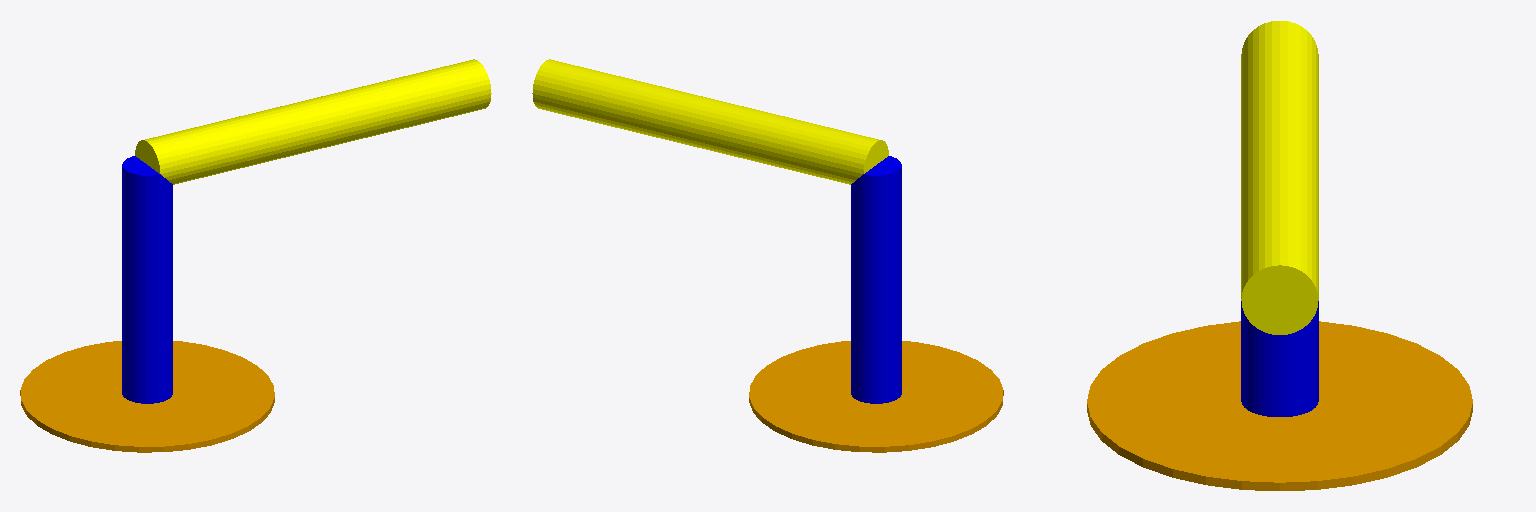
The robot description file, URDF, robot "TR":
<robot name="TR">
	<link name="base_link">

		<visual>
			<geometry>
				<cylinder length="0.01" radius="0.2"/>
			</geometry>
			<origin rpy="0 0 0" xyz="0 0 0"/>
		</visual>
	</link>

	<joint name="joint1" type="revolute">
		<parent link="base_link" />
		<child link="link1"/>
		<origin xyz="0 0 0"/>
		<axis xyz="0 0 1"/>
		<limit effort="300" velocity="0.1" lower="-3.1415926" upper="3.1415926"/>
		<dynamics damping="50" friction="1"/>
	</joint>

	<link name="link1">

		<visual>
			<geometry>
				<cylinder length="0.4" radius="0.04"/>
			</geometry>
			<origin rpy="0 0 0" xyz="0 0 0.2"/>
			<material name="blue-robot">
				<color rgba="0 0 1 1"/>
			</material>
		</visual>
	</link>

	<joint name="joint2" type="revolute">
		<parent link="link1" />
		<child link="link2"/>
		<origin xyz="0 0 0.4"/>
		<axis xyz="0 -1 0"/>
		<limit effort="300" velocity="0.1" lower="-3.1415926" upper="3.1415926"/>
		<dynamics damping="50" friction="1"/>
	</joint>

	<link name="link2">

		<visual>
			<geometry>
				<cylinder length="0.3" radius="0.04"/>
			</geometry>
			<origin rpy="0 1.5708 0" xyz="0.15 0 0"/>
			<material name="yellow-robot">
				<color rgba="1 1 0 1"/>
			</material>
		</visual>
	</link>

	<joint name="joint3" type="revolute">
		<parent link="link2" />
		<child link="link3"/>
		<origin xyz="0.3 0 0"/>
		<axis xyz="0 -1 0"/>
		<limit effort="300" velocity="0.1" lower="-3.1415926" upper="3.1415926"/>
		<dynamics damping="50" friction="1"/>
	</joint>

	<link name="link3">

		<visual>
			<geometry>
				<cylinder length="0.3" radius="0.04"/>
			</geometry>
			<origin rpy="0 1.5708 0" xyz="0.15 0 0"/>
			<material name="yellow-robot">
				<color rgba="1 1 0 1"/>
			</material>
		</visual>
	</link>

</robot>

--- What the picture shows (computed from the rendered views, not written in the file) ---
Views: 3 orthographic renders of the robot side by side, from view 1: azimuth 30°, elevation 25°; view 2: azimuth 150°, elevation 25°; view 3: azimuth 270°, elevation 25°.
Robot: TR — 4 links, 3 joints (3 revolute); root link base_link; default pose: all joints at 0.
Visible links, largest first — view 1: base_link, link1, link2, link3; view 2: base_link, link1, link2, link3; view 3: base_link, link3, link2, link1.
Boxes of the visible links, left/top/right/bottom form: base_link: left=20, top=341, right=274, bottom=452; link1: left=122, top=156, right=172, bottom=403; link2: left=135, top=100, right=325, bottom=184; link3: left=309, top=59, right=491, bottom=148; base_link: left=749, top=341, right=1003, bottom=452; link1: left=851, top=156, right=901, bottom=403; link2: left=698, top=100, right=888, bottom=184; link3: left=532, top=59, right=714, bottom=148; base_link: left=1087, top=321, right=1472, bottom=490; link3: left=1241, top=143, right=1318, bottom=334; link2: left=1241, top=21, right=1318, bottom=176; link1: left=1241, top=301, right=1318, bottom=416.
Size in the robot's own frame: 0.8 by 0.4 by 0.445 metres.
Geometry: primitives only (box / cylinder / sphere), no mesh files.